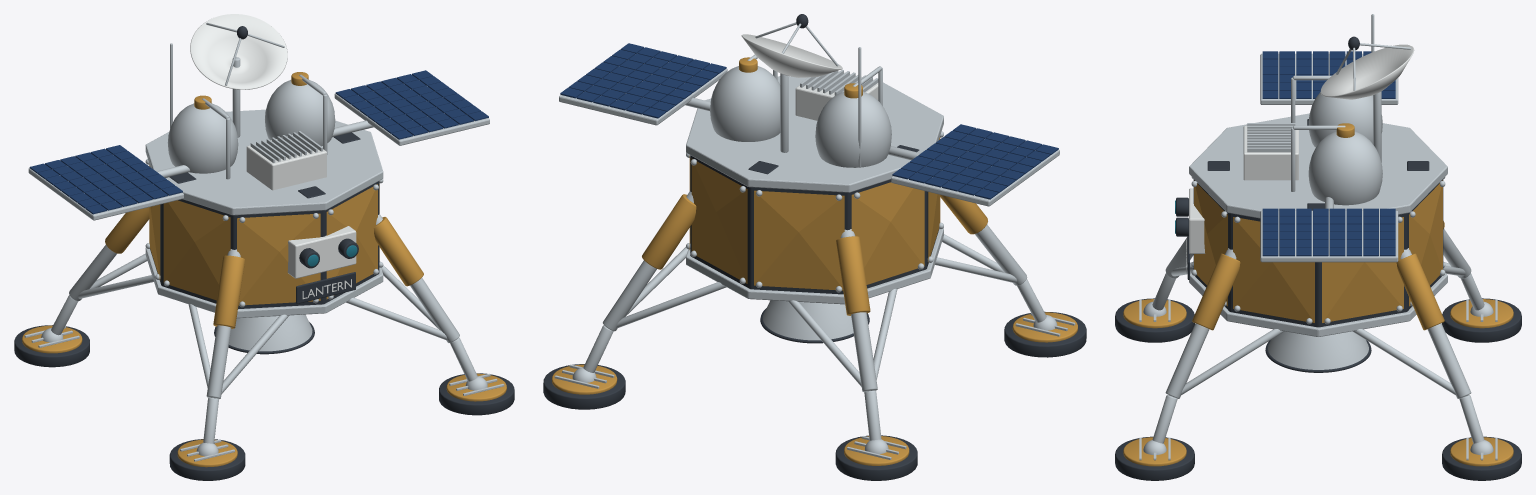
Rendered from LANTERN_Lander.fbx.
The picture shows the model from 3 angles, left to right: view 1: azimuth 30°, elevation 25°; view 2: azimuth 150°, elevation 25°; view 3: azimuth 270°, elevation 25°; orthographic projection. The views are drawn at different scales.
Parts seen in each view (by area): view 1: Deck perimeter.001, High gain reflector, Gold thermal blanket 05, Gold thermal blanket 04, Propellant tank, Propellant tank.001, Gold thermal blanket 06, Avionics enclosure, Deck perimeter, Octagonal structural bus, Main engine bell, Navigation instrument mount (+22 smaller); view 2: Deck perimeter.001, Gold thermal blanket 02, Gold thermal blanket 03, Gold thermal blanket 01, Propellant tank, Propellant tank.001, Octagonal structural bus, Deck perimeter, Main engine bell, High gain reflector, Shock absorber 1, Shock absorber 0 (+23 smaller); view 3: Deck perimeter.001, Gold thermal blanket 07, Gold thermal blanket 00, Propellant tank.001, Main engine bell, High gain reflector, Gold thermal blanket 01, Deck perimeter, Propellant tank, Octagonal structural bus, Gold thermal blanket 06, Solar panel frame.001 (+25 smaller).
Boxes of the visible parts, x1,y1,x2,y2 form: Deck perimeter.001: (145,109,383,215); High gain reflector: (190,14,287,89); Gold thermal blanket 05: (237,213,320,305); Gold thermal blanket 04: (163,200,230,300); Propellant tank: (167,103,238,173); Propellant tank.001: (265,80,335,146); Gold thermal blanket 06: (326,184,377,299); Avionics enclosure: (246,134,326,190); Deck perimeter: (145,248,383,318); Octagonal structural bus: (150,181,379,308); Main engine bell: (229,314,312,351); Navigation instrument mount: (287,226,356,278); Deck perimeter.001: (686,76,943,192); Gold thermal blanket 02: (754,190,844,290); Gold thermal blanket 03: (851,182,924,284); Gold thermal blanket 01: (691,158,747,283); Propellant tank: (815,91,891,167); Propellant tank.001: (710,66,780,141); Octagonal structural bus: (690,155,939,294); Deck perimeter: (686,228,943,304); Main engine bell: (763,300,853,340); High gain reflector: (741,34,842,77); Shock absorber 1: (836,236,870,315); Shock absorber 0: (642,194,696,269); Deck perimeter.001: (1189,113,1447,218); Gold thermal blanket 07: (1233,217,1314,322); Gold thermal blanket 00: (1322,217,1403,322); Propellant tank.001: (1308,131,1382,205); Main engine bell: (1268,331,1368,369); High gain reflector: (1320,44,1414,99); Gold thermal blanket 01: (1409,180,1442,306); Deck perimeter: (1189,273,1447,336); Propellant tank: (1308,92,1382,147); Octagonal structural bus: (1193,179,1443,327); Gold thermal blanket 06: (1194,180,1227,306); Solar panel frame.001: (1260,210,1398,262).
Size of the model in its own units: 5.32 by 4.33 by 4.49.
